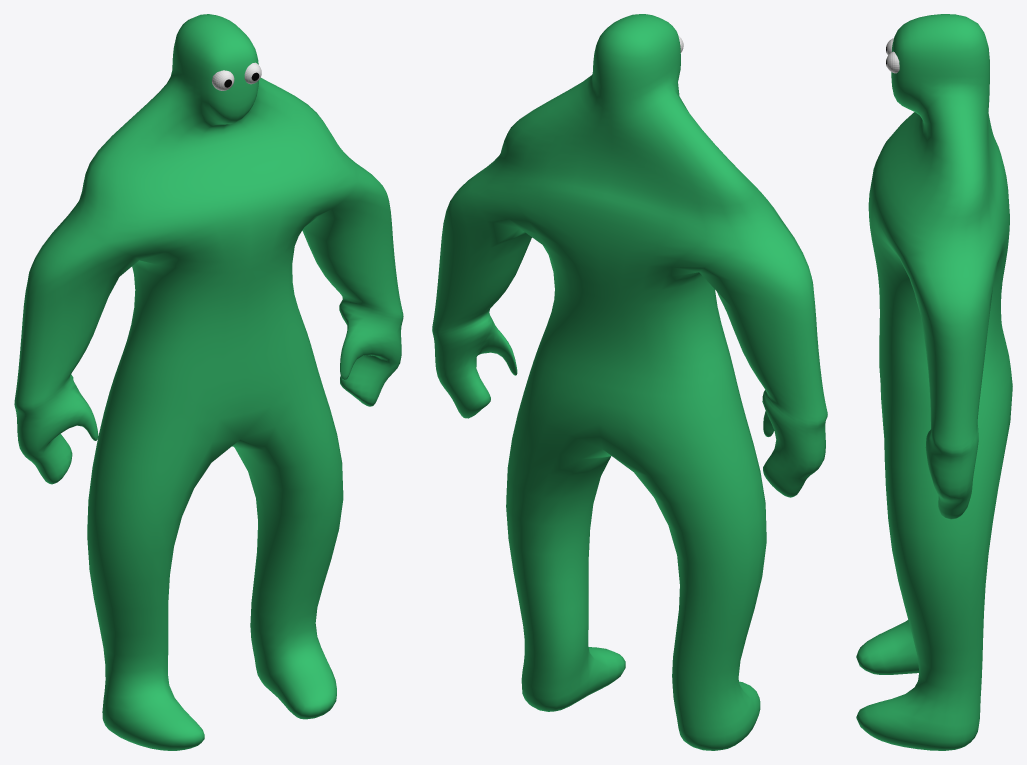
The model's file is mascotte_orc.fbx.
3 renders of one model, left to right at view 1: azimuth 30°, elevation 25°; view 2: azimuth 150°, elevation 25°; view 3: azimuth 270°, elevation 25°, orthographic. The views are drawn at different scales.
Visible parts, largest first — view 1: Corps, Yeux; view 2: Corps; view 3: Corps, Yeux.
Part boxes in pixels (x1,y1,x2,y2): Corps: [14, 14, 403, 750]; Yeux: [212, 62, 261, 90]; Corps: [432, 14, 827, 750]; Corps: [856, 14, 1012, 750]; Yeux: [886, 38, 899, 73].
Bounding box in the file's own units: 417 × 720 × 149.
